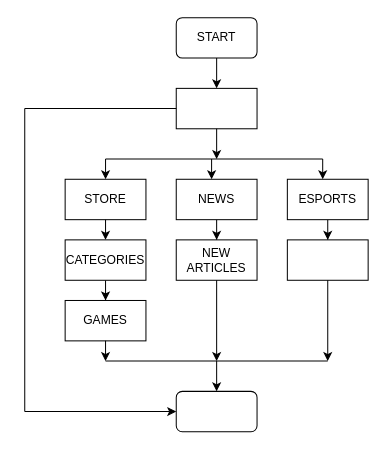
Image size: 388x449. Some labels were removed from this diagram. The shapes that lost their labels are listed below. From the top down, each one's centre as x and y in pixels, then its label:
(x=216, y=108): HOME
(x=327, y=259): TOURNAMENT
(x=216, y=411): END
